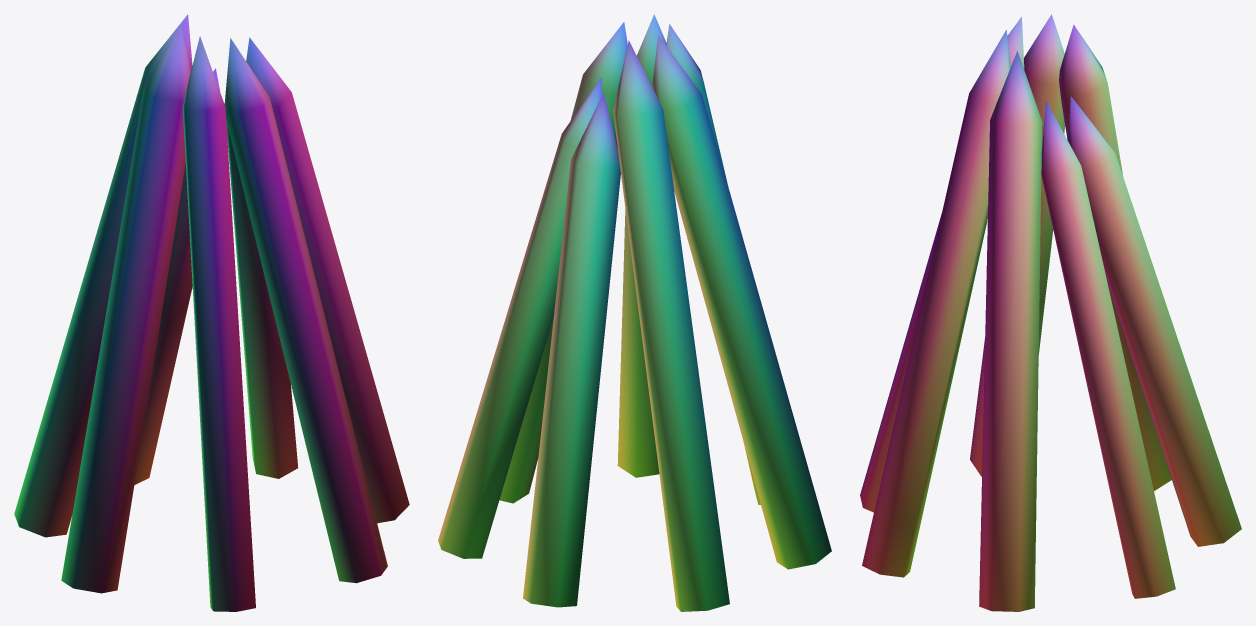
The model's file is SM_FX_FrostCage.fbx.
3 renders of one model, left to right at view 1: azimuth 30°, elevation 25°; view 2: azimuth 150°, elevation 25°; view 3: azimuth 270°, elevation 25°, orthographic.
Visible parts, largest first — view 1: SM_FX_FrostCage; view 2: SM_FX_FrostCage; view 3: SM_FX_FrostCage.
Part boxes in pixels (left/top/right/bottom): SM_FX_FrostCage: left=14, top=14, right=409, bottom=611; SM_FX_FrostCage: left=438, top=14, right=831, bottom=611; SM_FX_FrostCage: left=860, top=14, right=1241, bottom=611.
Size of the model in its own units: 1.04 by 1.52 by 1.02.
